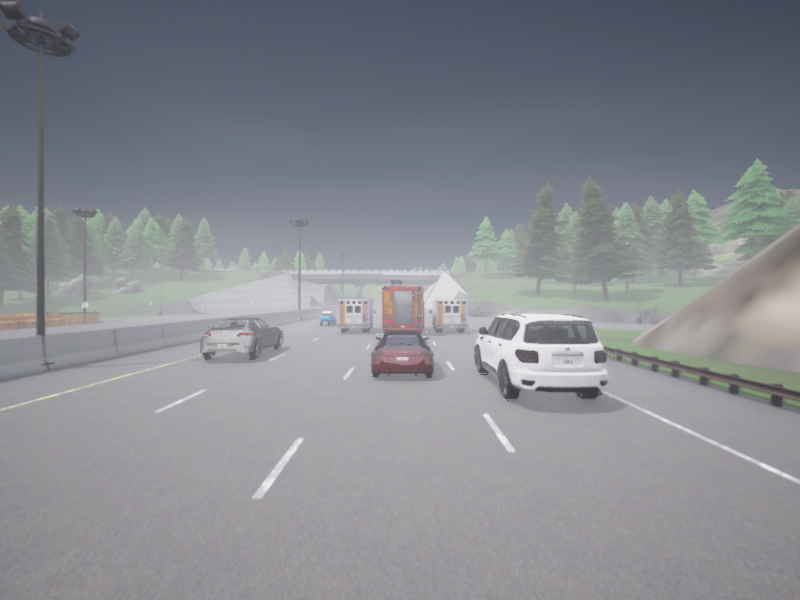vehicle: (475, 313, 608, 400), (200, 318, 282, 359), (371, 330, 433, 376), (382, 279, 423, 333), (338, 300, 376, 331), (429, 300, 467, 331), (320, 311, 336, 325)
